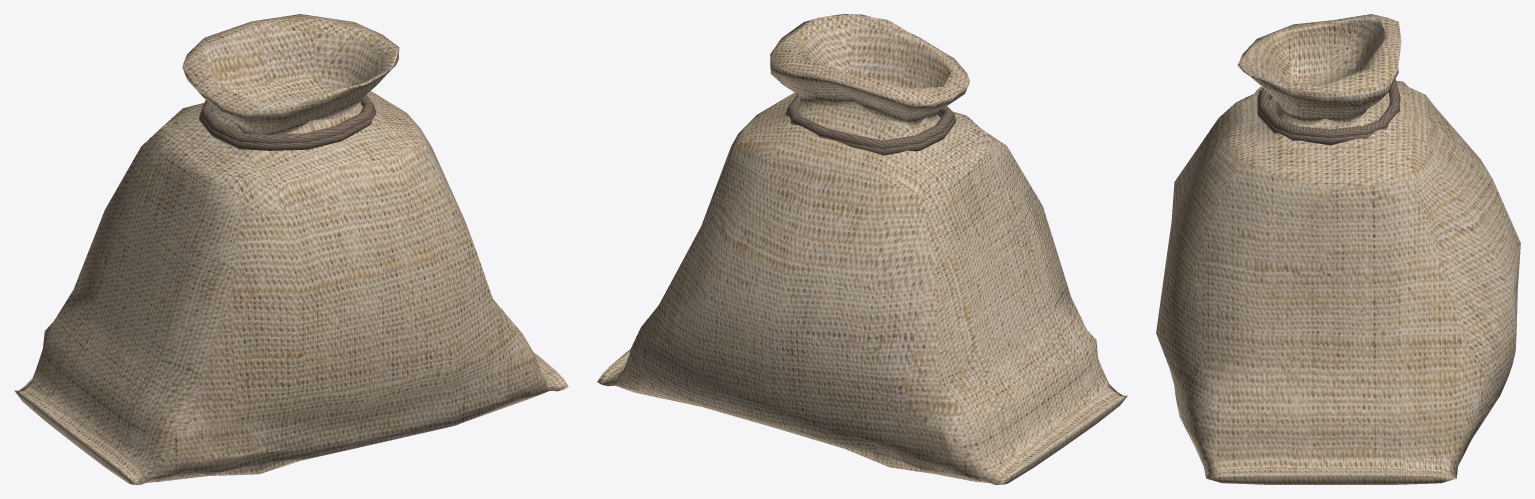
The model's file is sack.fbx.
3 views of the same model, side by side, from view 1: azimuth 30°, elevation 25°; view 2: azimuth 150°, elevation 25°; view 3: azimuth 270°, elevation 25° (orthographic). The views are drawn at different scales.
Visible parts, largest first — view 1: pCube3, pTorus1, pTorus2; view 2: pCube3, pTorus1, pTorus2; view 3: pCube3, pTorus1, pTorus2.
Part boxes in pixels (left/top/right/bottom): pCube3: left=14, top=14, right=568, bottom=484; pTorus1: left=200, top=95, right=374, bottom=143; pTorus2: left=199, top=109, right=375, bottom=150; pCube3: left=597, top=14, right=1127, bottom=484; pTorus1: left=787, top=94, right=954, bottom=149; pTorus2: left=785, top=112, right=956, bottom=155; pCube3: left=1156, top=14, right=1520, bottom=484; pTorus1: left=1258, top=79, right=1399, bottom=137; pTorus2: left=1257, top=95, right=1400, bottom=145.
Size of the model in its own units: 3.22 by 2.59 by 2.42.
